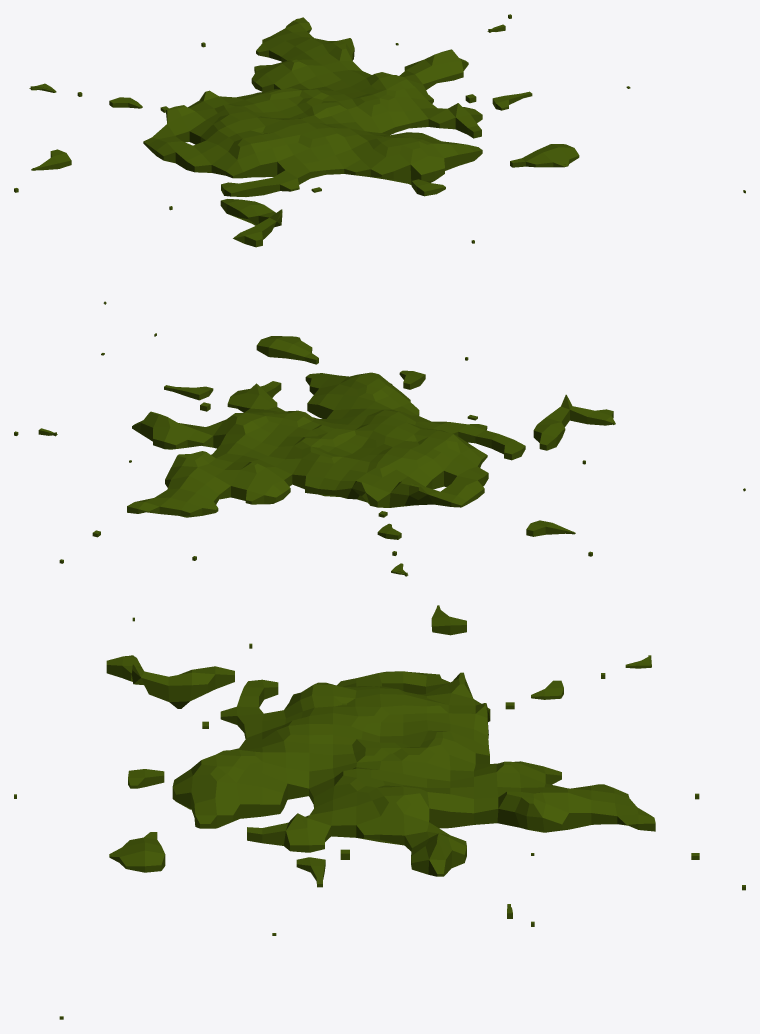
The model's file is Moss.fbx.
3 renders of one model, top to bottom at view 1: azimuth 30°, elevation 25°; view 2: azimuth 150°, elevation 25°; view 3: azimuth 270°, elevation 25°, orthographic. The views are drawn at different scales.
Parts seen in each view (by area): view 1: IvyLeaf.001; view 2: IvyLeaf.001; view 3: IvyLeaf.001.
Part boxes in pixels (x1,y1,x2,y2): IvyLeaf.001: (14, 14, 745, 304); IvyLeaf.001: (14, 333, 745, 576); IvyLeaf.001: (14, 605, 745, 1019).
Bounding box in the file's own units: 229 × 26.04 × 187.
